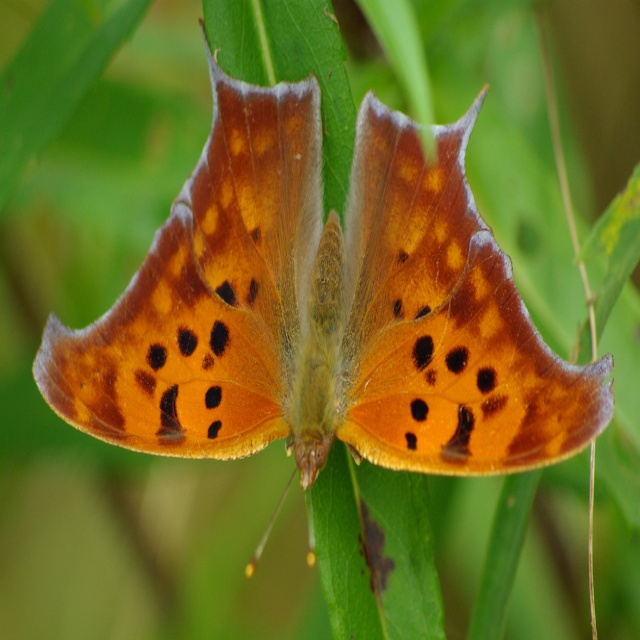Butterfly: (33, 19, 612, 583)
